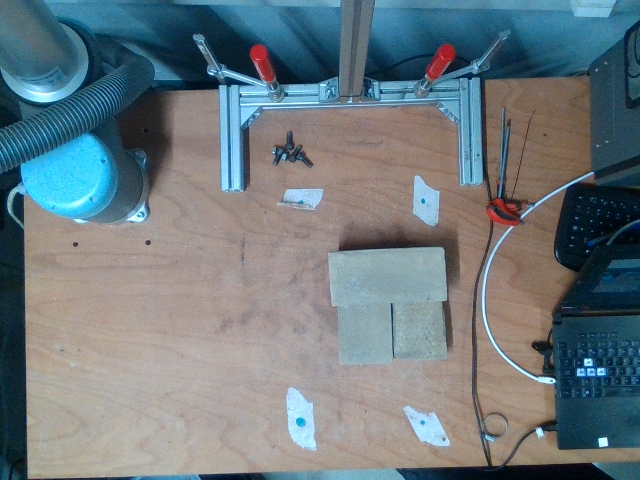brick: (329, 249, 445, 306)
